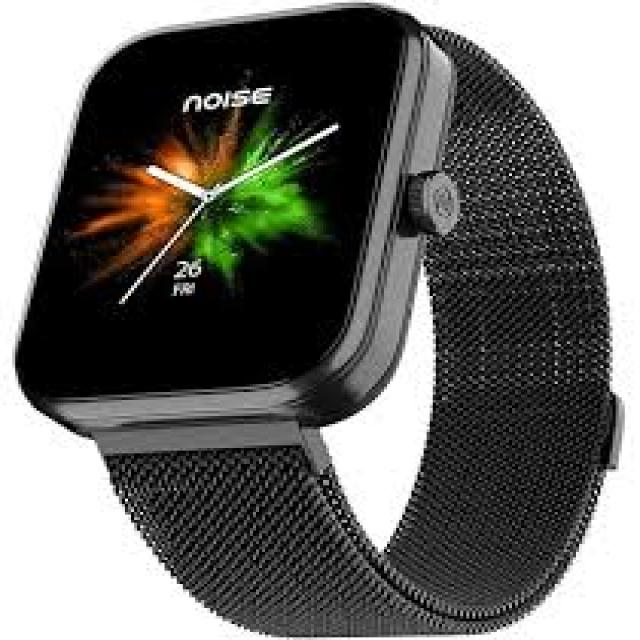objects: (15, 0, 615, 635), (134, 26, 146, 29)
